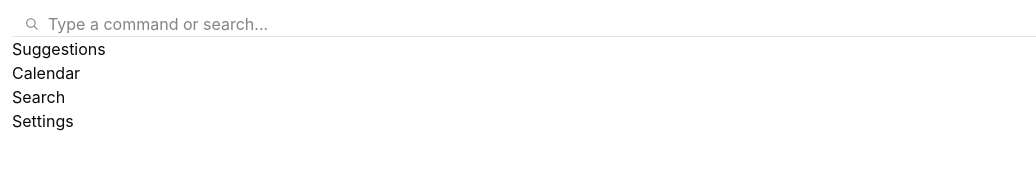
Command › shows CommandEmpty when no items match
In the dropdown with placeholder "Type a command or search...": (172, 24) x1=48 y1=12 x2=296 y2=36, type "xyz"
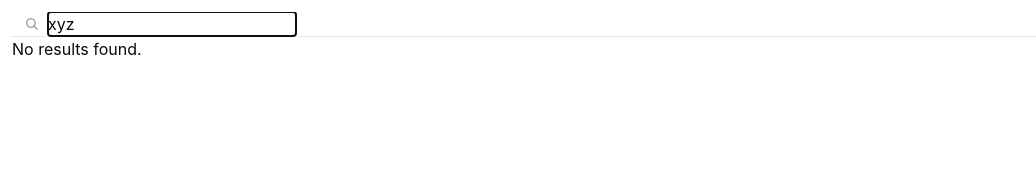
Expected: the text "No results found." is shown, x1=12 y1=39 x2=142 y2=59
